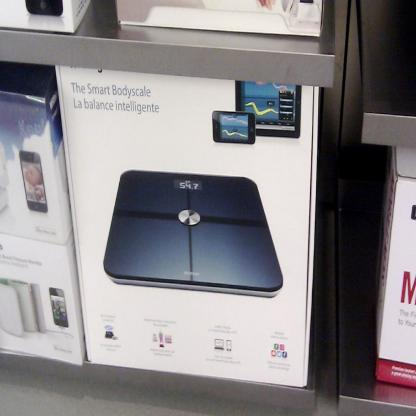board: (104, 168, 284, 298)
